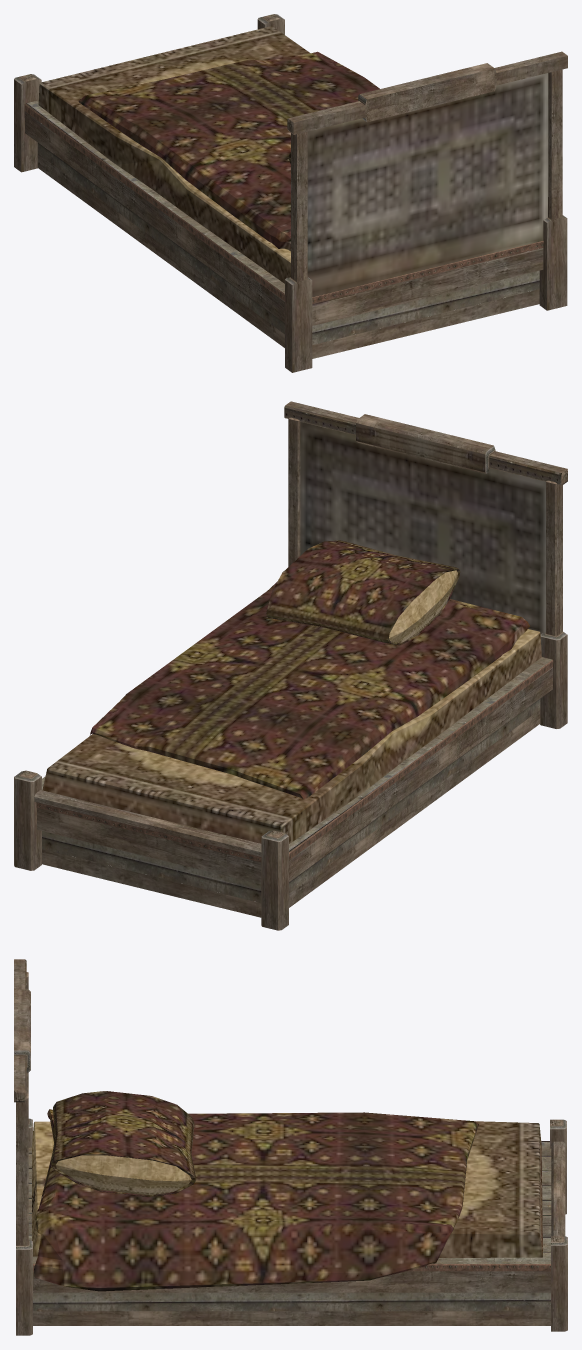
The model's file is TW2_5_FUR_01_6-transformed.glb.
3 views of the same model, one above another, from view 1: azimuth 30°, elevation 25°; view 2: azimuth 150°, elevation 25°; view 3: azimuth 270°, elevation 25° (orthographic). The views are drawn at different scales.
Parts seen in each view (by area): view 1: default; view 2: default; view 3: default.
Part boxes in pixels (x1,y1,x2,y2): default: [14, 14, 567, 372]; default: [14, 401, 567, 930]; default: [14, 959, 567, 1335].
Bounding box in the file's own units: 1.61 × 1.4 × 2.8.
Materials: 3 (3 with a texture image).
